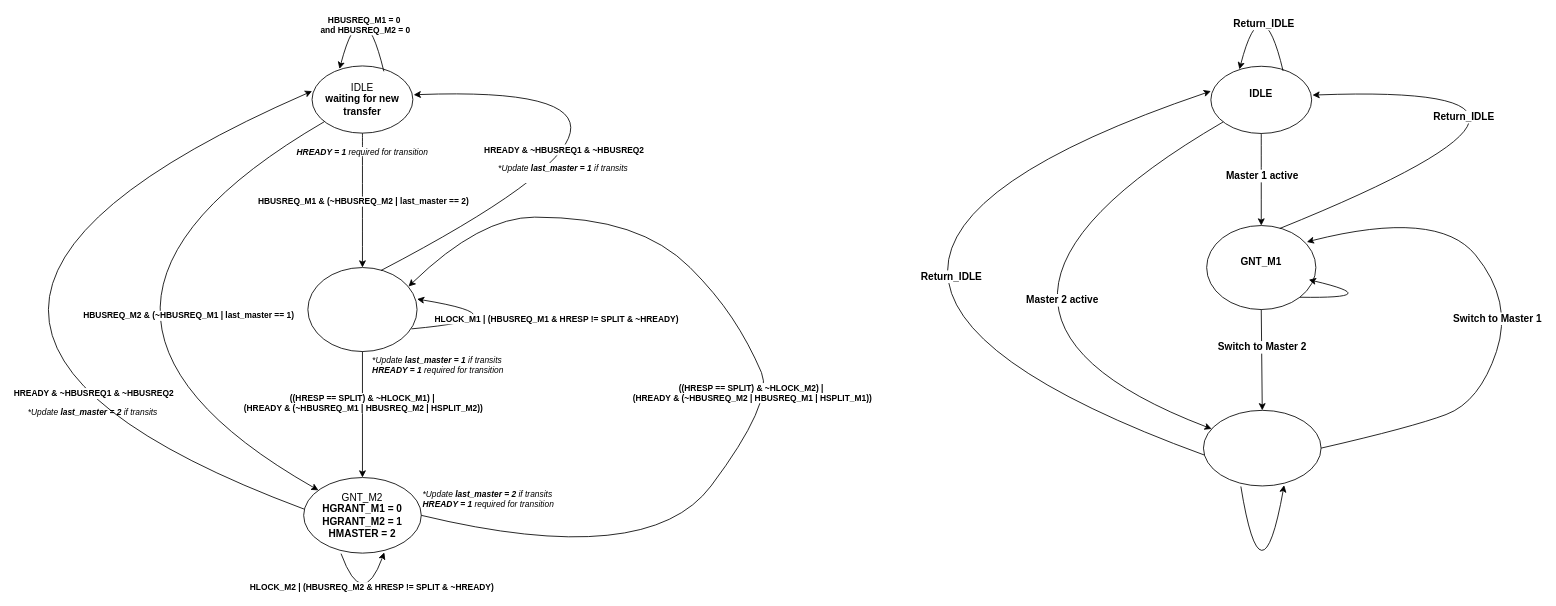
The diagram is 1556 pixels wide and 606 high, and some of its shapes have lost their labels. Each missing label, with the centre of its shape:
GNT_M1 HGRANT_M1 = 1 HGRANT_M2 = 0 HMASTER = 1: (x=362, y=309)
GNT_M2: (x=1262, y=448)
